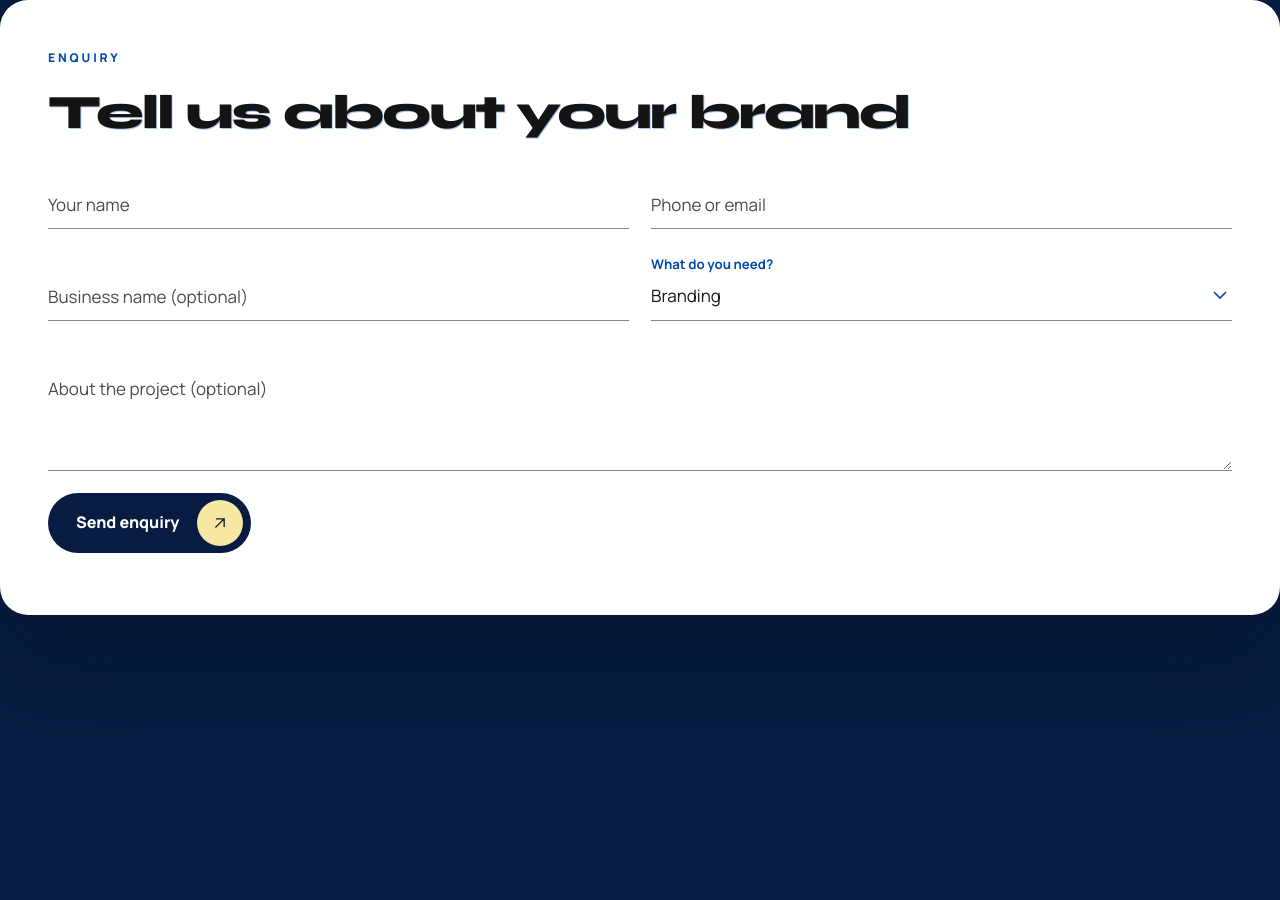
Test: EnquiryForm › explains when the visitor is rate-limited
Step 1. Type "Asha" into the field labelled "Your name" → (338, 203), box [48,177,629,229]
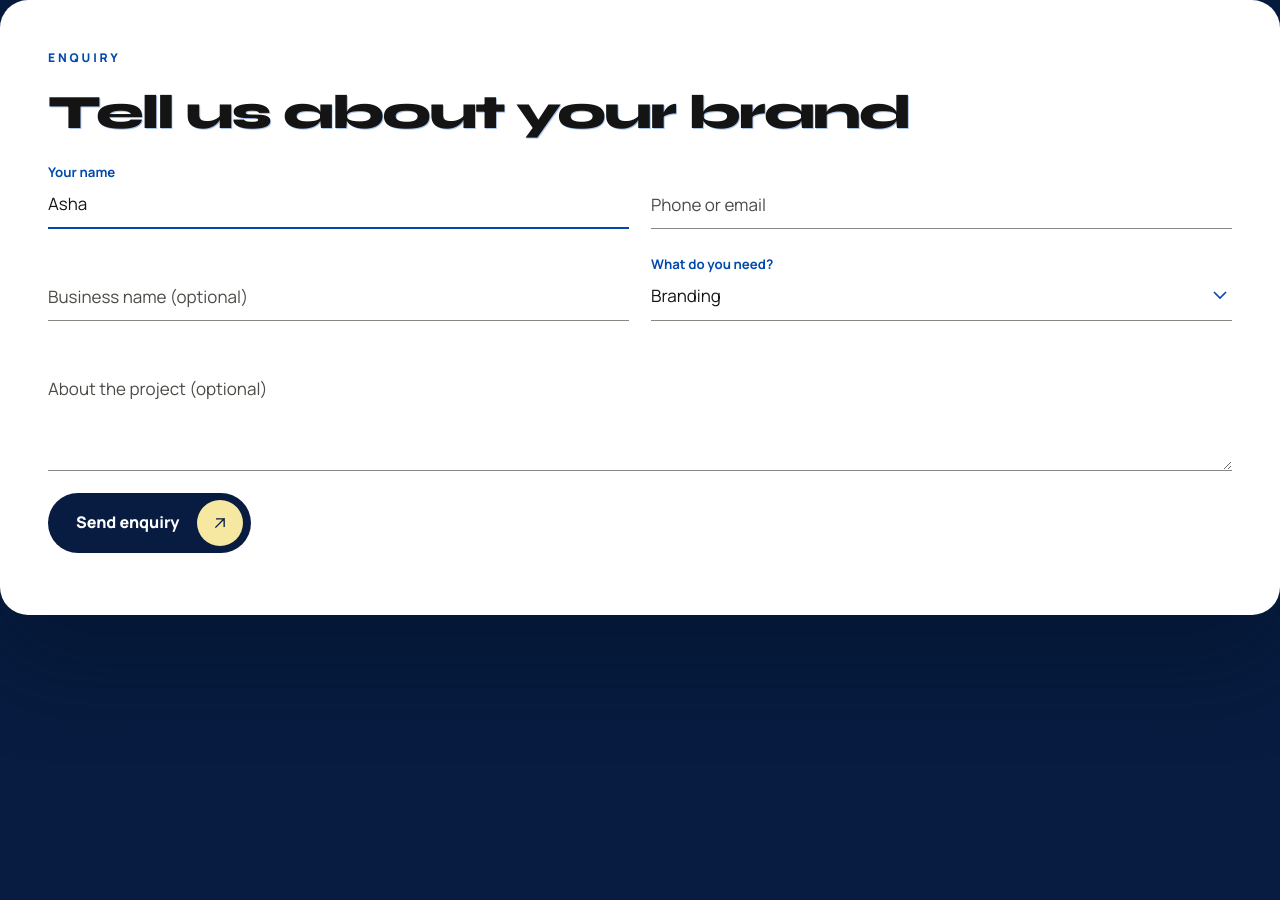
Step 2. Type "asha@example.com" into the field labelled "Phone or email" → (942, 203), box [651,177,1232,229]
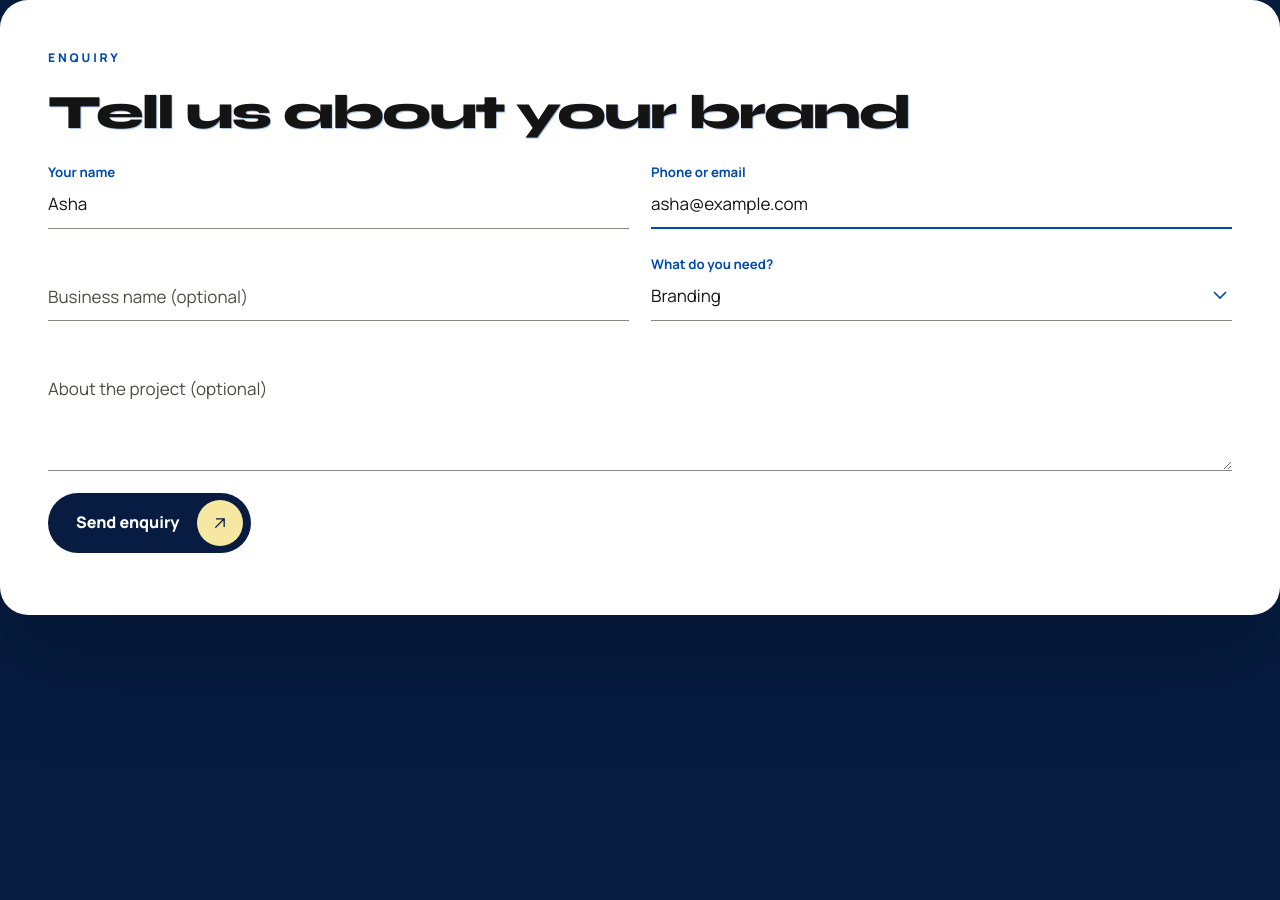
Step 3. Select "Website Development" in the dropdown labelled "What do you need?" → (942, 295), box [651,269,1232,321]
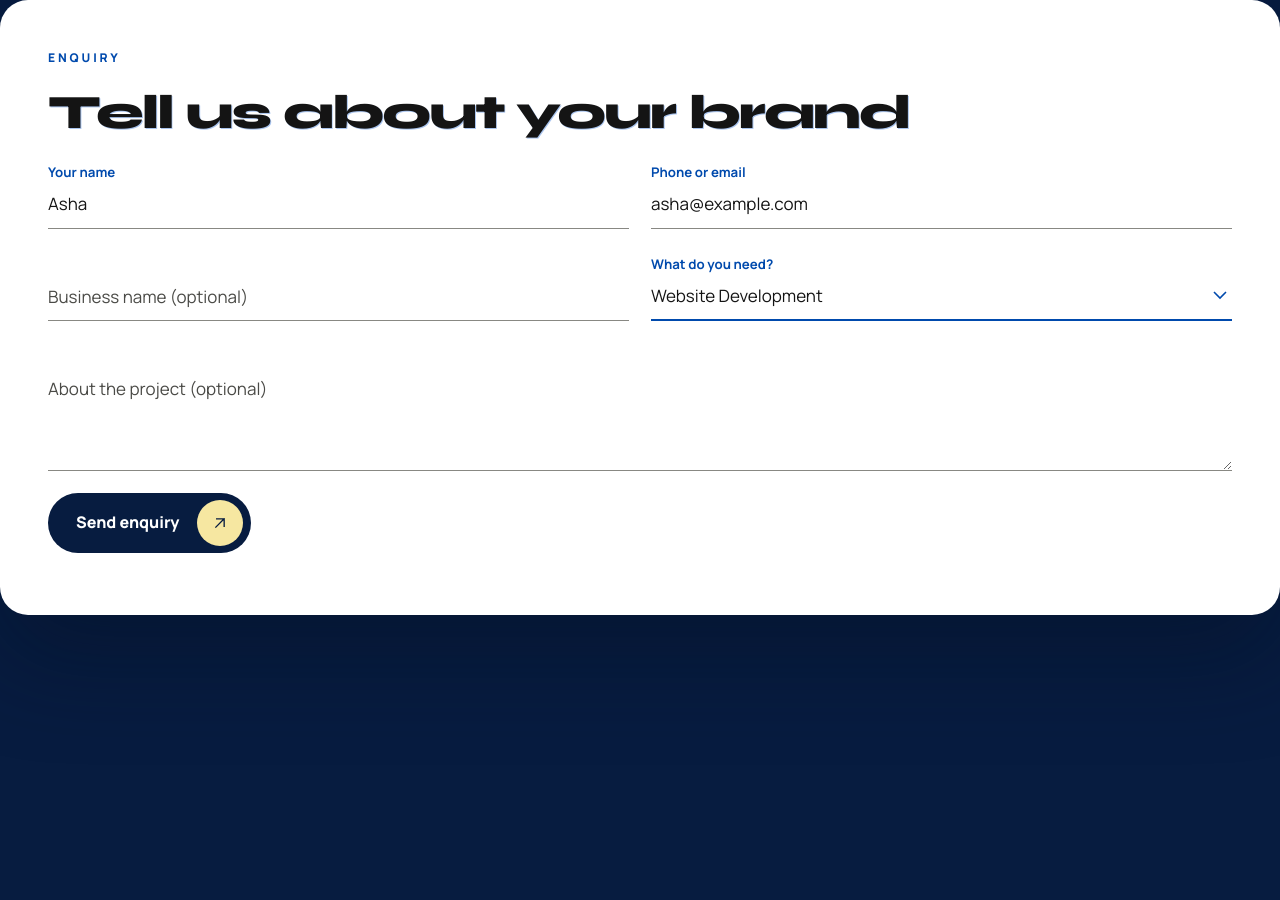
Step 4. Click the button "Send enquiry" → click(150, 523), box [48,493,251,553]
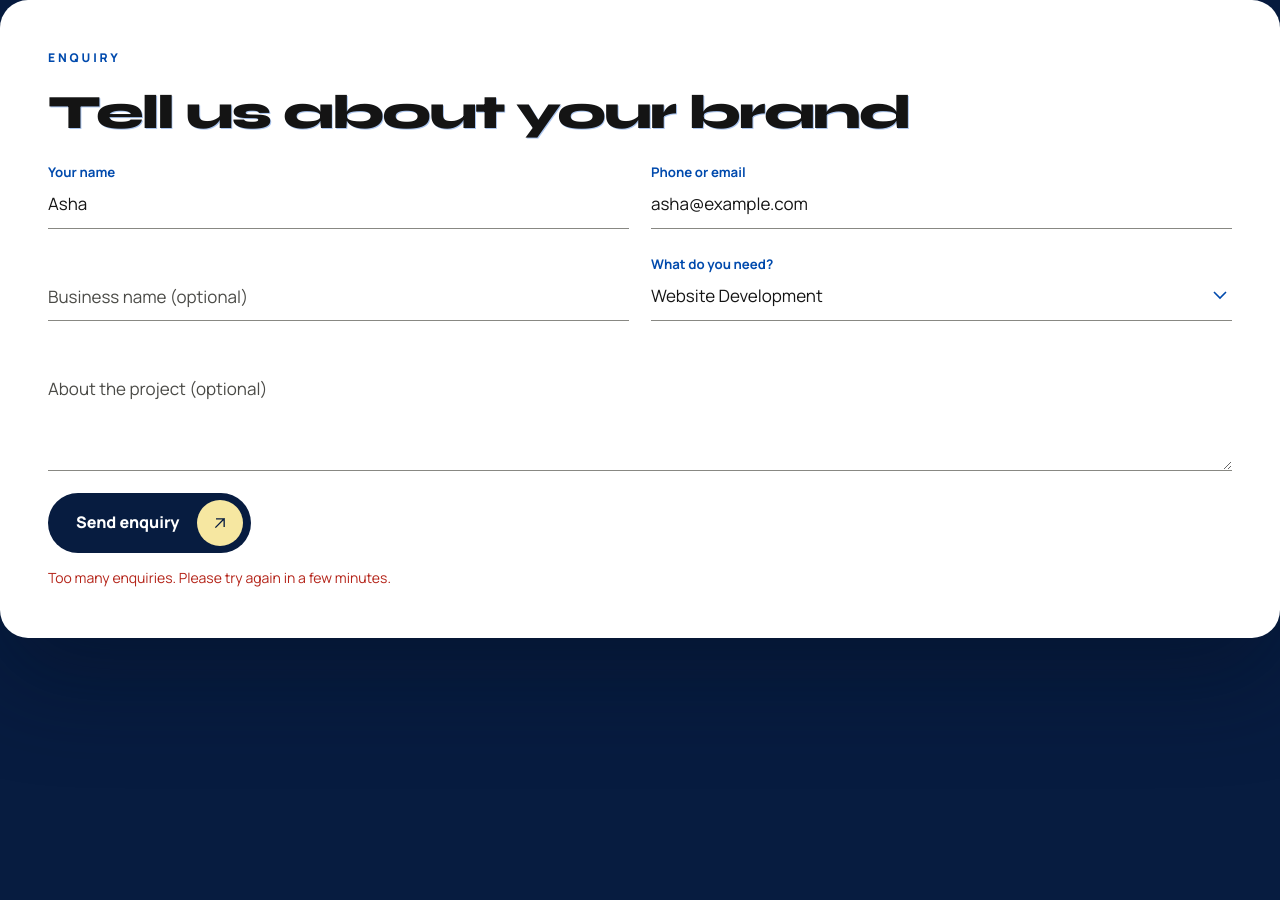
Expected: the text "Too many enquiries. Please try again in a few minutes." is shown, [48,568,391,587]
